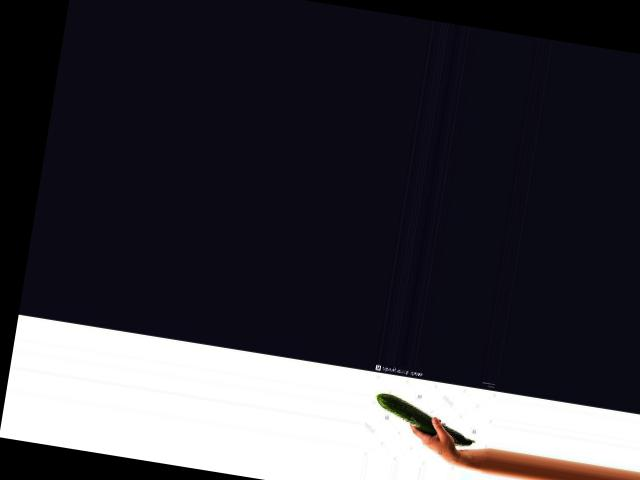cucumber: (371, 391, 481, 448)
